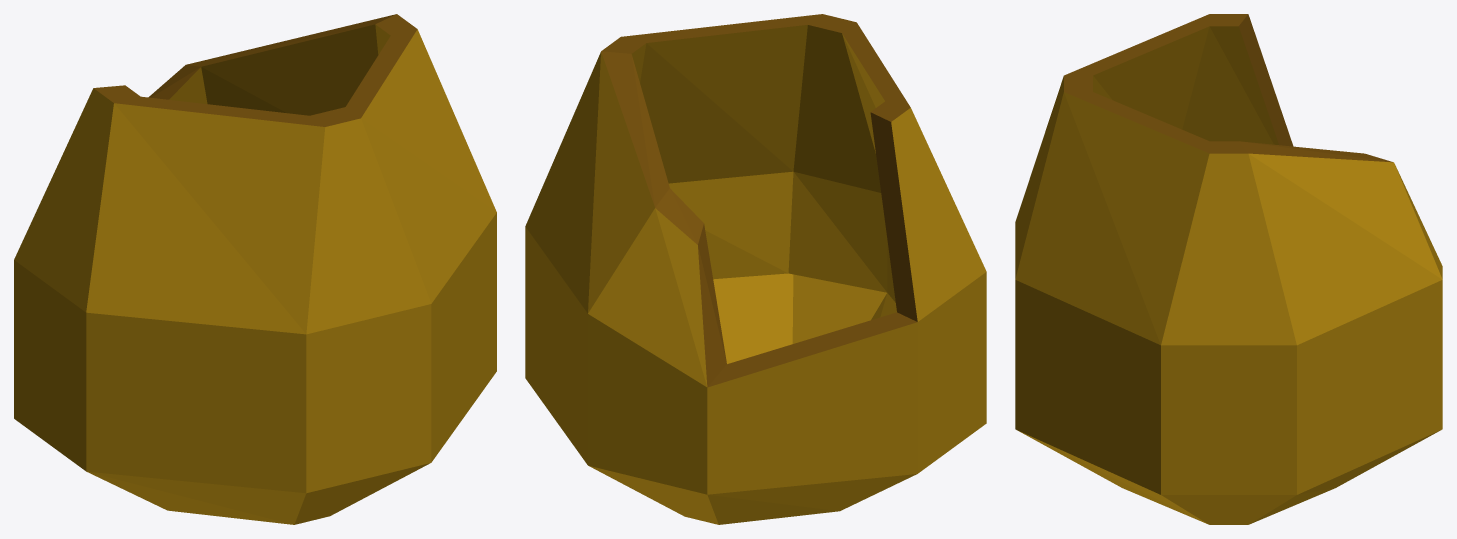
The model's file is inv_ceramic_remains.obj.
The picture shows the model from 3 angles, left to right: view 1: azimuth 30°, elevation 25°; view 2: azimuth 150°, elevation 25°; view 3: azimuth 270°, elevation 25°; orthographic projection. The views are drawn at different scales.
Bounding box in the file's own units: 0.3594 × 0.3516 × 0.3438.
